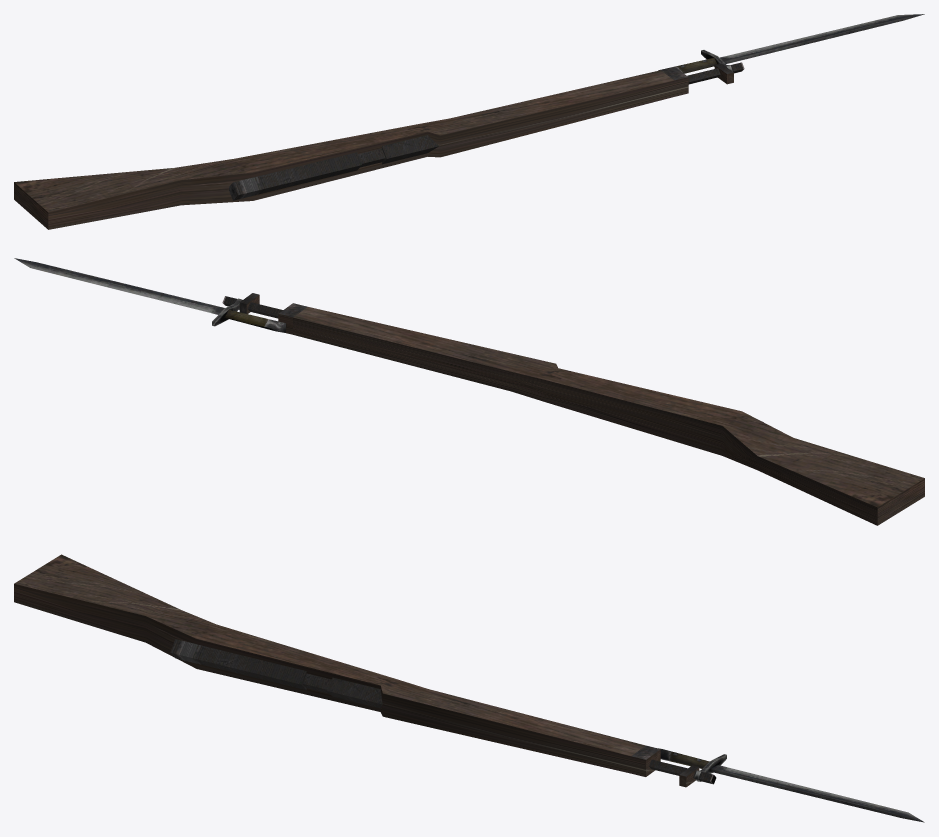
File: weapon_jap_arisaka_type99_bayonet_LOD11.obj
The picture shows the model from 3 angles, top to bottom: view 1: azimuth 30°, elevation 25°; view 2: azimuth 150°, elevation 25°; view 3: azimuth 330°, elevation 25°; orthographic projection. The views are drawn at different scales.
Visible parts, largest first — view 1: TomGroup_1, TomGroup_2, TomGroup_0; view 2: TomGroup_1, TomGroup_0, TomGroup_2; view 3: TomGroup_1, TomGroup_2, TomGroup_0.
Boxes of the visible parts, x1,y1,x2,y2 form: TomGroup_1: (14,67,688,229); TomGroup_2: (229,62,744,200); TomGroup_0: (658,14,924,73); TomGroup_1: (278,303,924,525); TomGroup_0: (14,258,286,332); TomGroup_2: (222,293,763,422); TomGroup_1: (14,554,660,776); TomGroup_2: (170,639,716,787); TomGroup_0: (658,748,924,822).
Bounding box in the file's own units: 171 × 5.35 × 21.77.
Materials: 3 (3 with a texture image).
